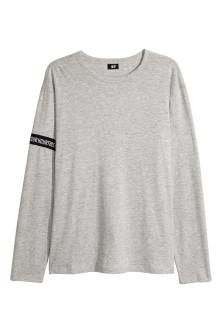teeshirt: (7, 49, 217, 317)
